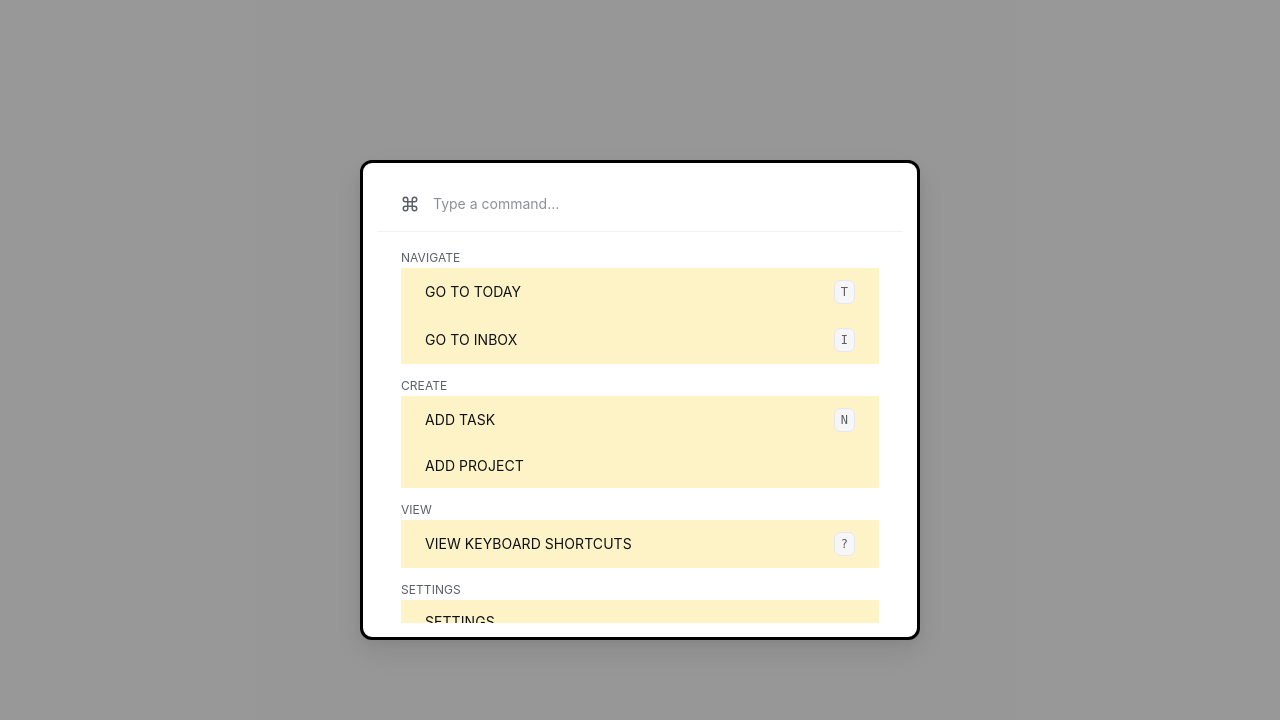
Test case: CommandPalette — dynamic commands › shows "Go to <Project>" for each project when searching
Type "Alpha" into the dropdown with placeholder "Type a command…" at (655, 204), box [431,193,879,215]
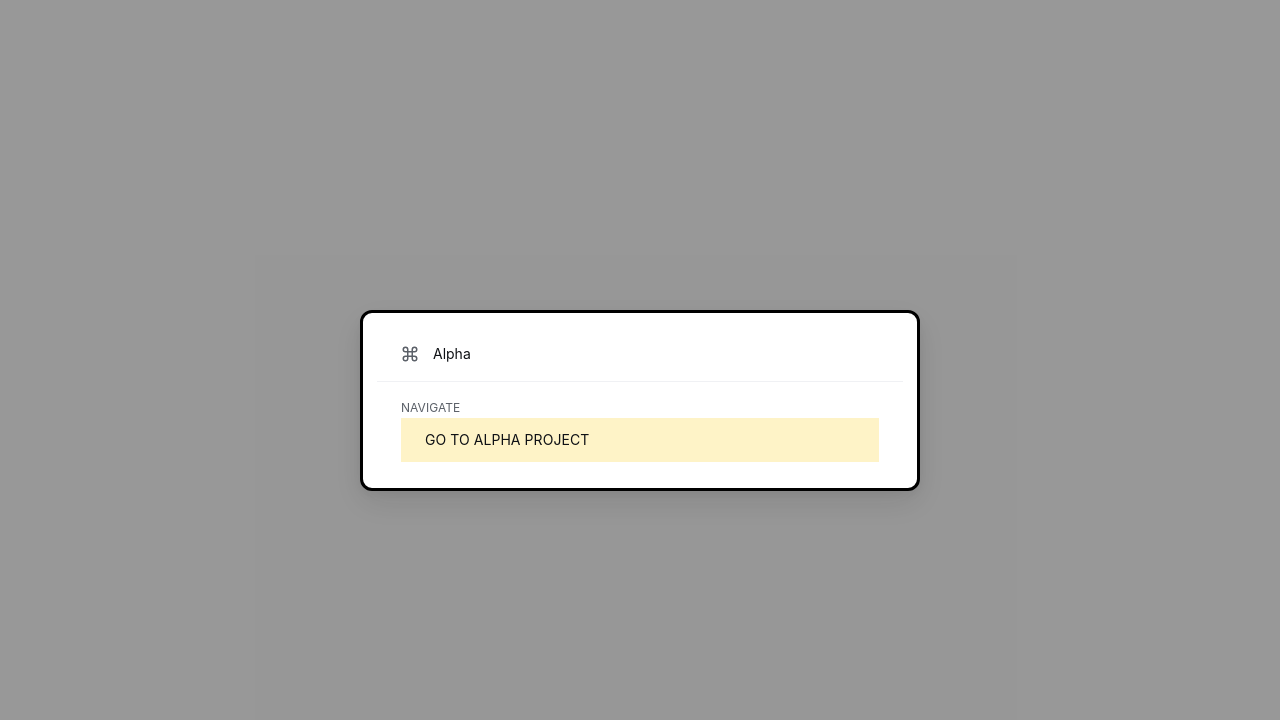
Now the text "Go to Alpha Project" is shown, box [425,430,589,448]
